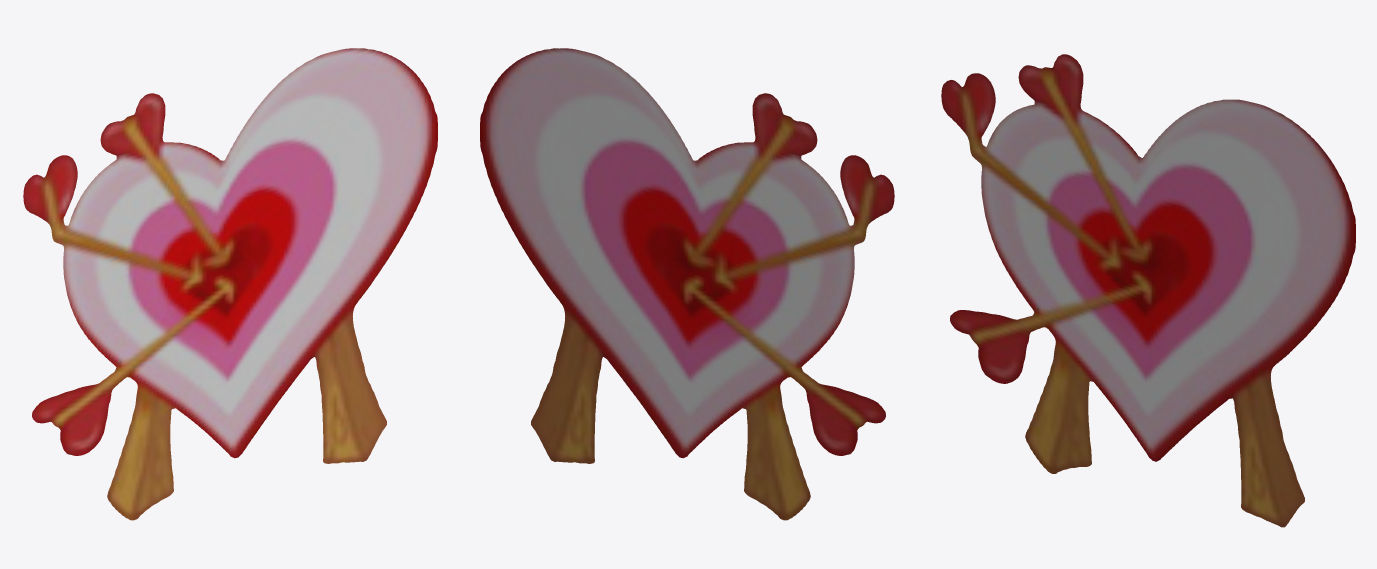
File: heart_target.glb
The picture shows the model from 3 angles, left to right: view 1: azimuth 30°, elevation 25°; view 2: azimuth 150°, elevation 25°; view 3: azimuth 330°, elevation 25°; orthographic projection.
Parts seen in each view (by area): view 1: partyDecoration_HeartTarget__billboard; view 2: partyDecoration_HeartTarget__billboard; view 3: partyDecoration_HeartTarget__billboard.
Part boxes in pixels (x1,y1,x2,y2): partyDecoration_HeartTarget__billboard: (23,48,437,520); partyDecoration_HeartTarget__billboard: (480,48,894,520); partyDecoration_HeartTarget__billboard: (941,54,1355,527).
Size of the model in its own units: 3.73 by 3.61 by 0.
1 material, 1 textured.
